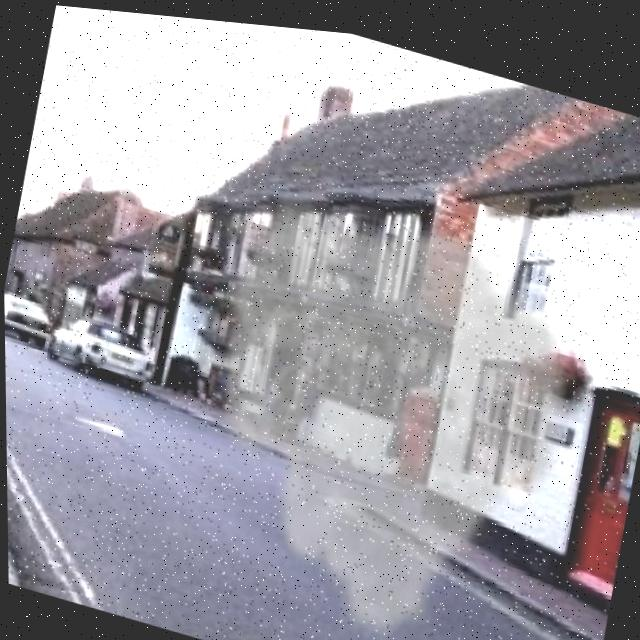Smoke: (160, 120, 609, 640)
